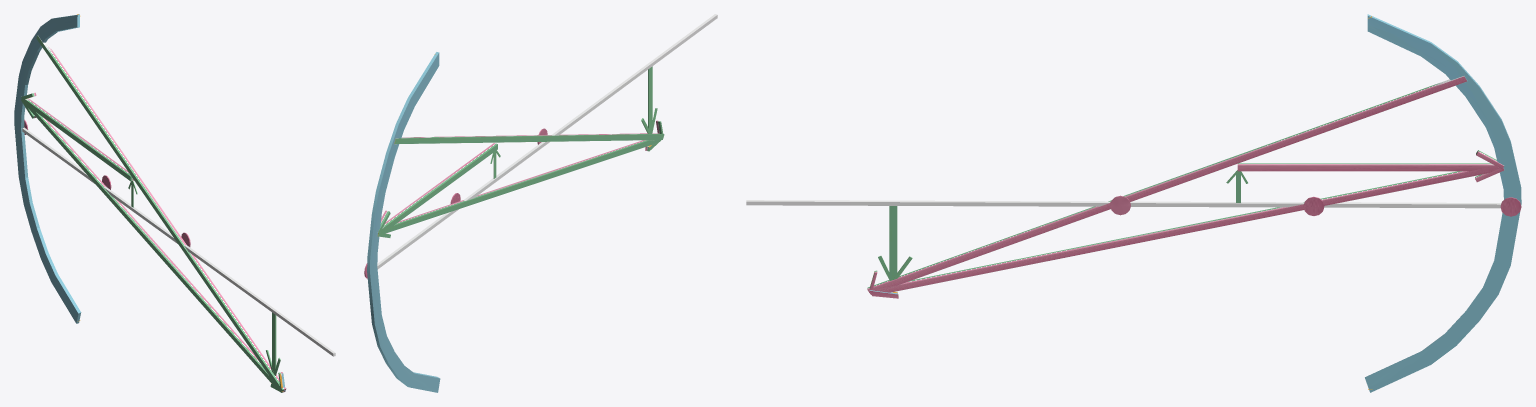
File: case4.fbx
3 views of the same model, side by side, from view 1: azimuth 30°, elevation 25°; view 2: azimuth 150°, elevation 25°; view 3: azimuth 270°, elevation 25° (orthographic). The views are drawn at different scales.
Visible parts, largest first — view 1: case4; view 2: case4; view 3: case4.
Boxes of the visible parts, x1,y1,x2,y2 form: case4: [14, 14, 335, 392]; case4: [364, 14, 717, 392]; case4: [746, 14, 1521, 392].
Size of the model in its own units: 1.02 by 38.58 by 71.81.
Materials: 1 (1 with a texture image).
